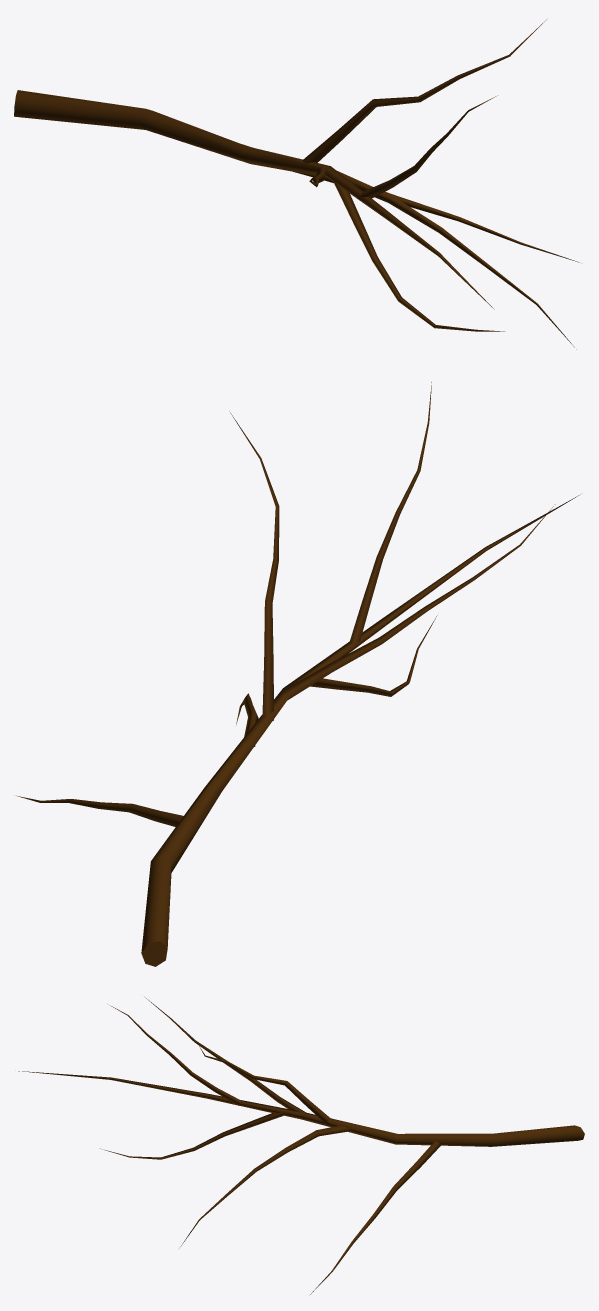
File: Branch001.FBX
3 views of the same model, one above another, from view 1: azimuth 30°, elevation 25°; view 2: azimuth 150°, elevation 25°; view 3: azimuth 270°, elevation 25° (orthographic). The views are drawn at different scales.
Parts seen in each view (by area): view 1: Branch001; view 2: Branch001; view 3: Branch001.
Boxes of the visible parts, x1=… form: Branch001: x1=14, y1=19, x2=579, y2=349; Branch001: x1=16, y1=382, x2=580, y2=966; Branch001: x1=18, y1=998, x2=584, y2=1294.
Size of the model in its own units: 91.63 by 76.6 by 182.
